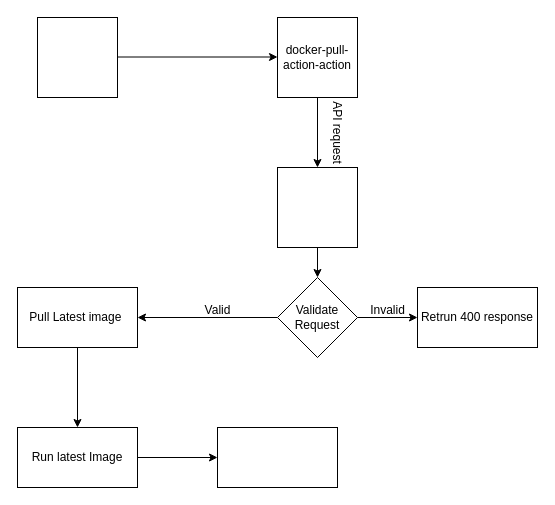
The diagram is 555 pixels wide and 505 high, and some of its shapes have lost their labels. Here are the shapes that lost their labels. From the top down, the box of each, then its label:
(36, 16, 118, 98): Your Workflow Run
(276, 166, 358, 248): Docker Pull Auto on server
(216, 426, 338, 488): Delete Old Image if exist
